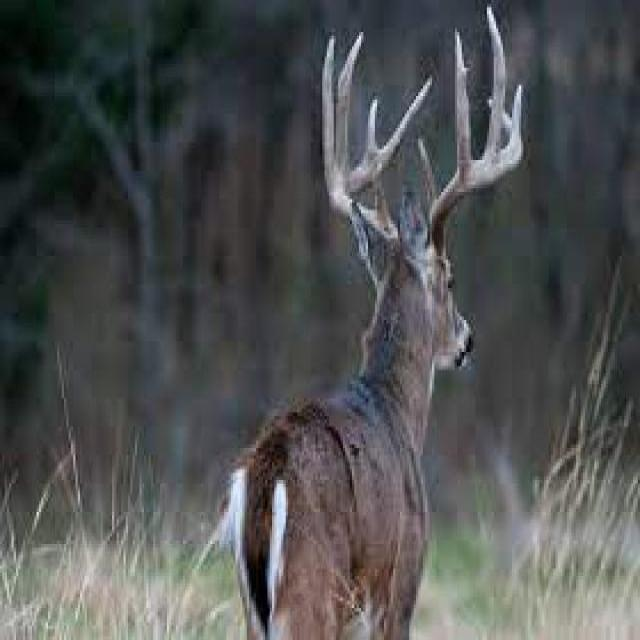deer: (226, 12, 526, 635)
